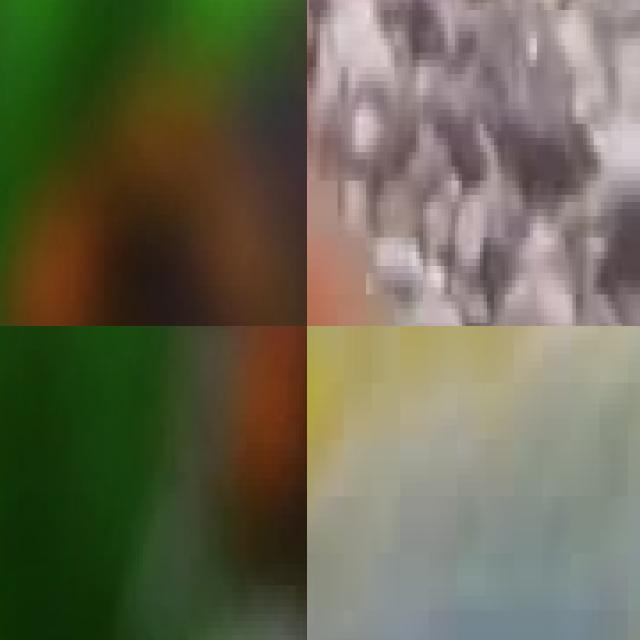fish: (0, 0, 307, 326), (161, 326, 307, 592)
